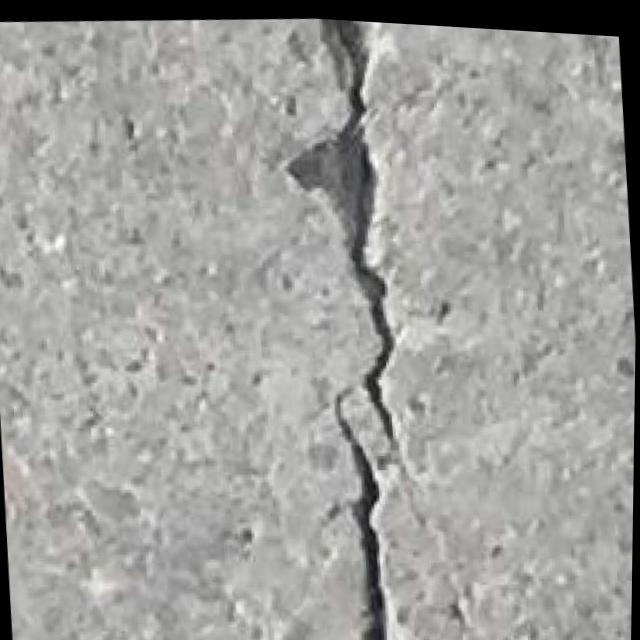Crack: (251, 12, 463, 640)
